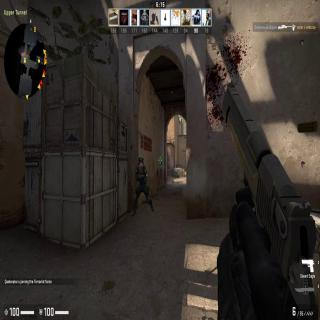CT-Body: (132, 154, 150, 206)
CT-Head: (138, 156, 143, 164)
